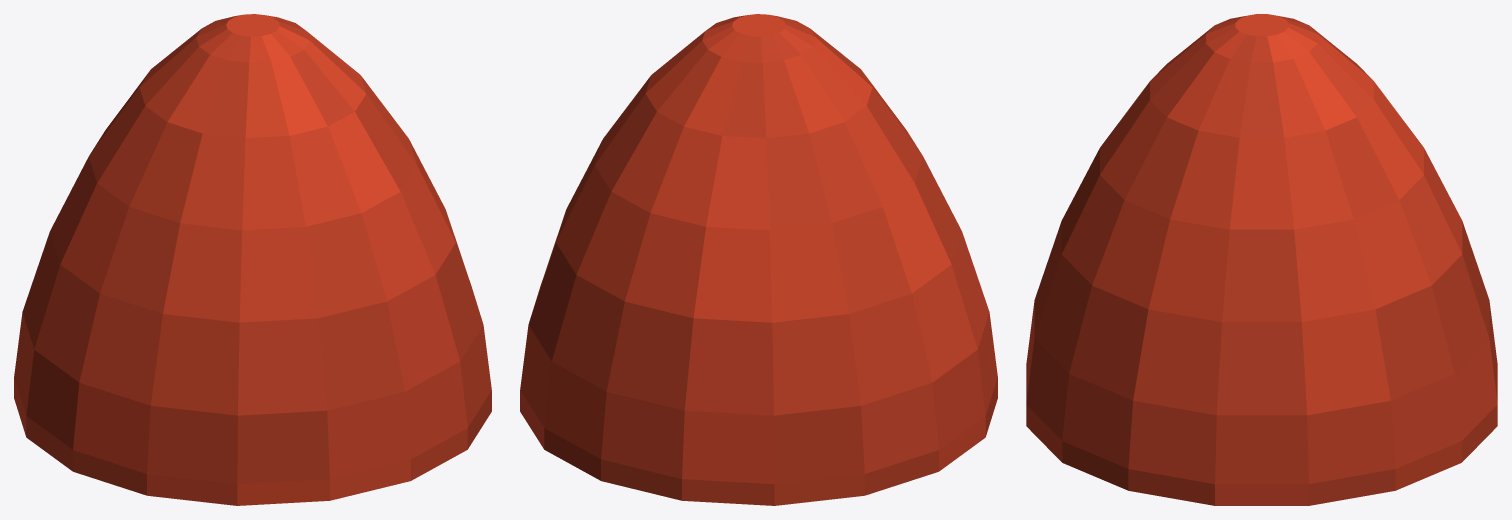
Rendered from QR_OgiveCap.fbx.
3 renders of one model, left to right at view 1: azimuth 30°, elevation 25°; view 2: azimuth 150°, elevation 25°; view 3: azimuth 270°, elevation 25°, orthographic.
Visible parts, largest first — view 1: QR_OgiveCap; view 2: QR_OgiveCap; view 3: QR_OgiveCap.
Part boxes in pixels (x1=…): QR_OgiveCap: x1=14, y1=14, x2=491, y2=505; QR_OgiveCap: x1=520, y1=14, x2=997, y2=505; QR_OgiveCap: x1=1026, y1=14, x2=1497, y2=505.
Bounding box in the file's own units: 0.7846 × 0.7 × 0.7846.
1 material, 1 textured.
